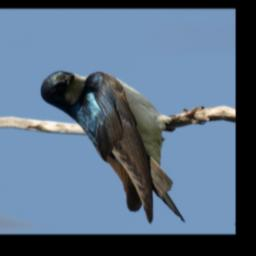Swallow: (25, 68, 214, 228)
